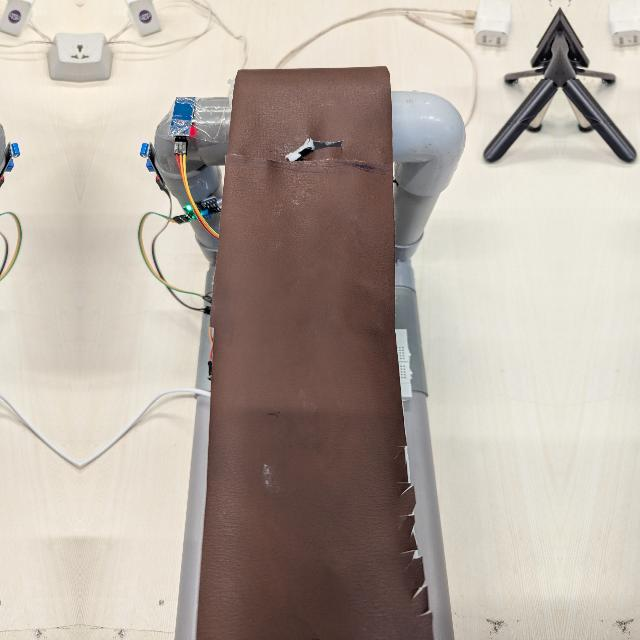joint_damage: (285, 125, 355, 179)
